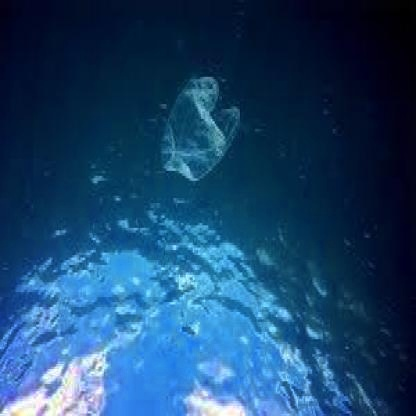pbag: (161, 69, 245, 184)
